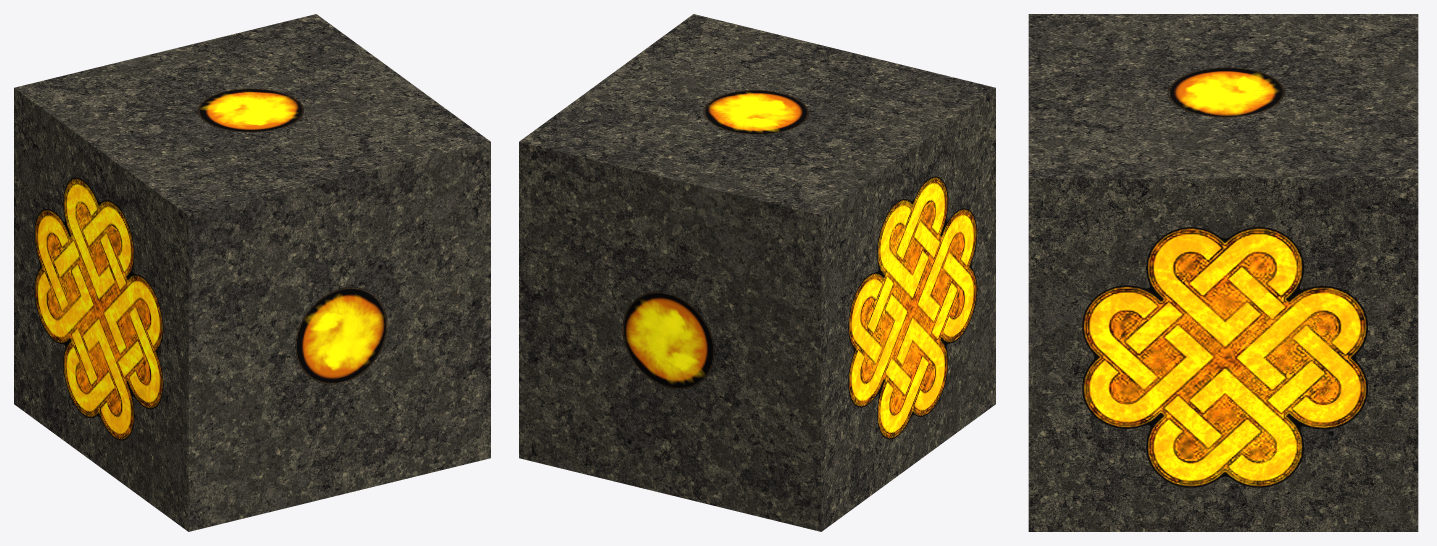
Rendered from mountain_cube.gltf.
The picture shows the model from 3 angles, left to right: view 1: azimuth 30°, elevation 25°; view 2: azimuth 150°, elevation 25°; view 3: azimuth 270°, elevation 25°; orthographic projection. The views are drawn at different scales.
Parts seen in each view (by area): view 1: mountain_cube_glb; view 2: mountain_cube_glb; view 3: mountain_cube_glb.
Boxes of the visible parts, box(x1,y1,x2,y2) form: mountain_cube_glb: box(14, 14, 490, 531); mountain_cube_glb: box(519, 14, 995, 531); mountain_cube_glb: box(1028, 14, 1418, 531).
Size of what is drawn, in the model's own units: 1.02 by 1.02 by 1.02.
2 materials, 2 textured.
